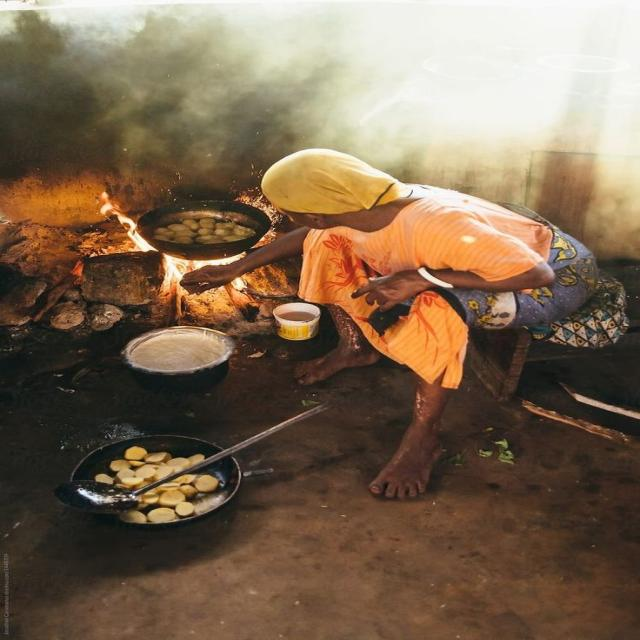fire: (161, 252, 246, 296), (101, 192, 158, 250)
